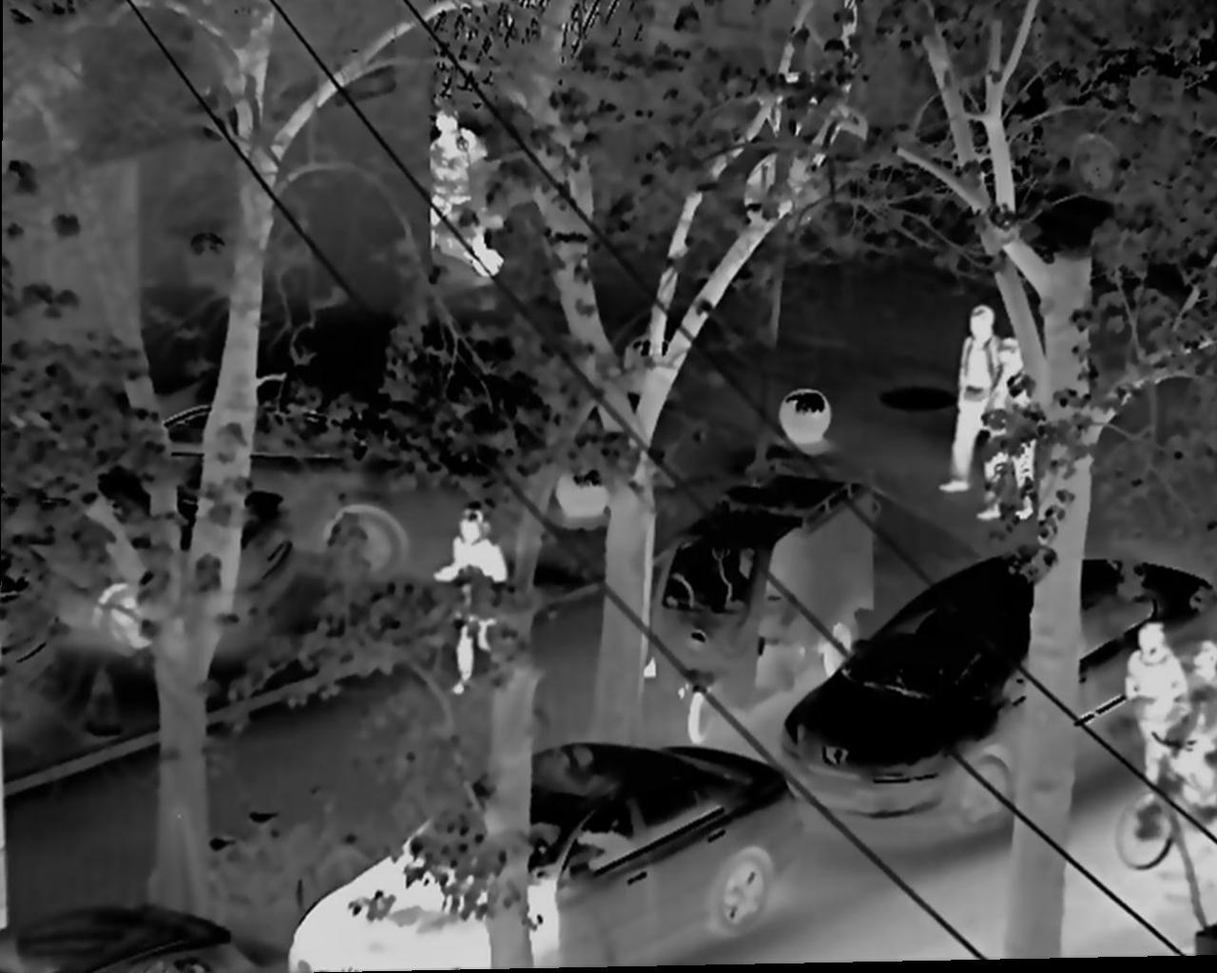person: (425, 497, 520, 697), (418, 105, 512, 284), (1115, 609, 1185, 824), (936, 306, 1004, 496), (977, 326, 1035, 538), (1167, 639, 1217, 811)
